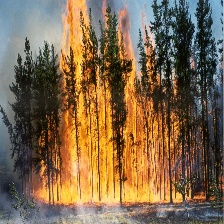fire: (34, 1, 214, 203)
smoke: (4, 4, 38, 198), (3, 206, 224, 221)
